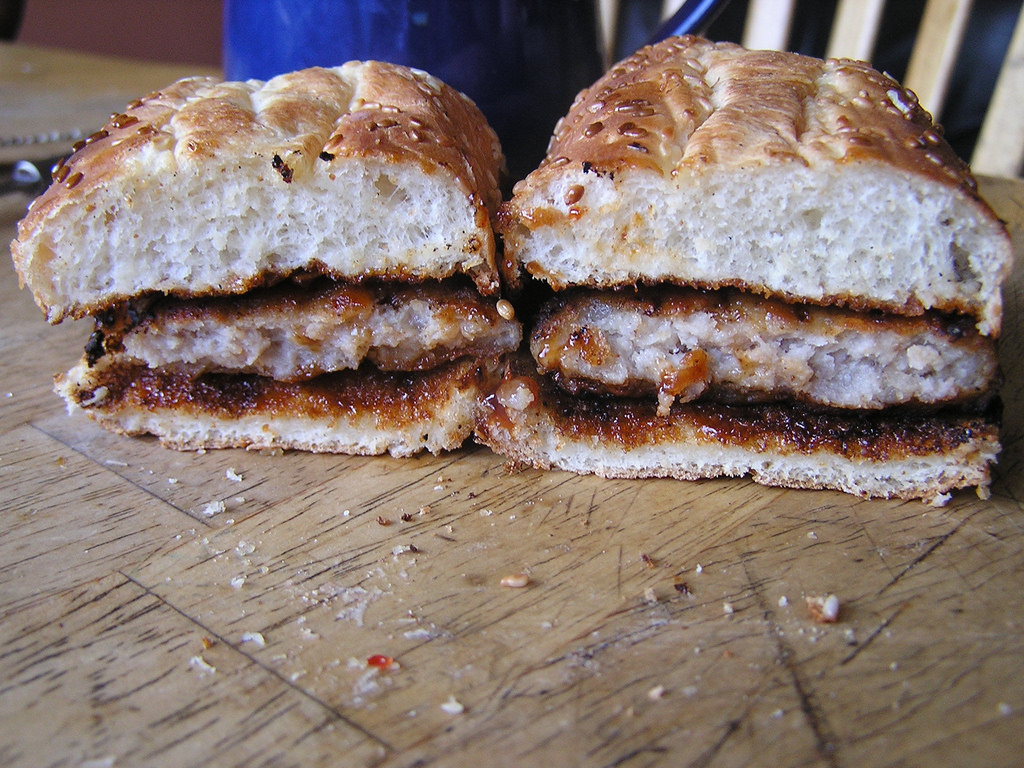slice of bread: (524, 38, 1016, 316), (21, 67, 502, 297), (488, 389, 1002, 492), (54, 376, 475, 460)
